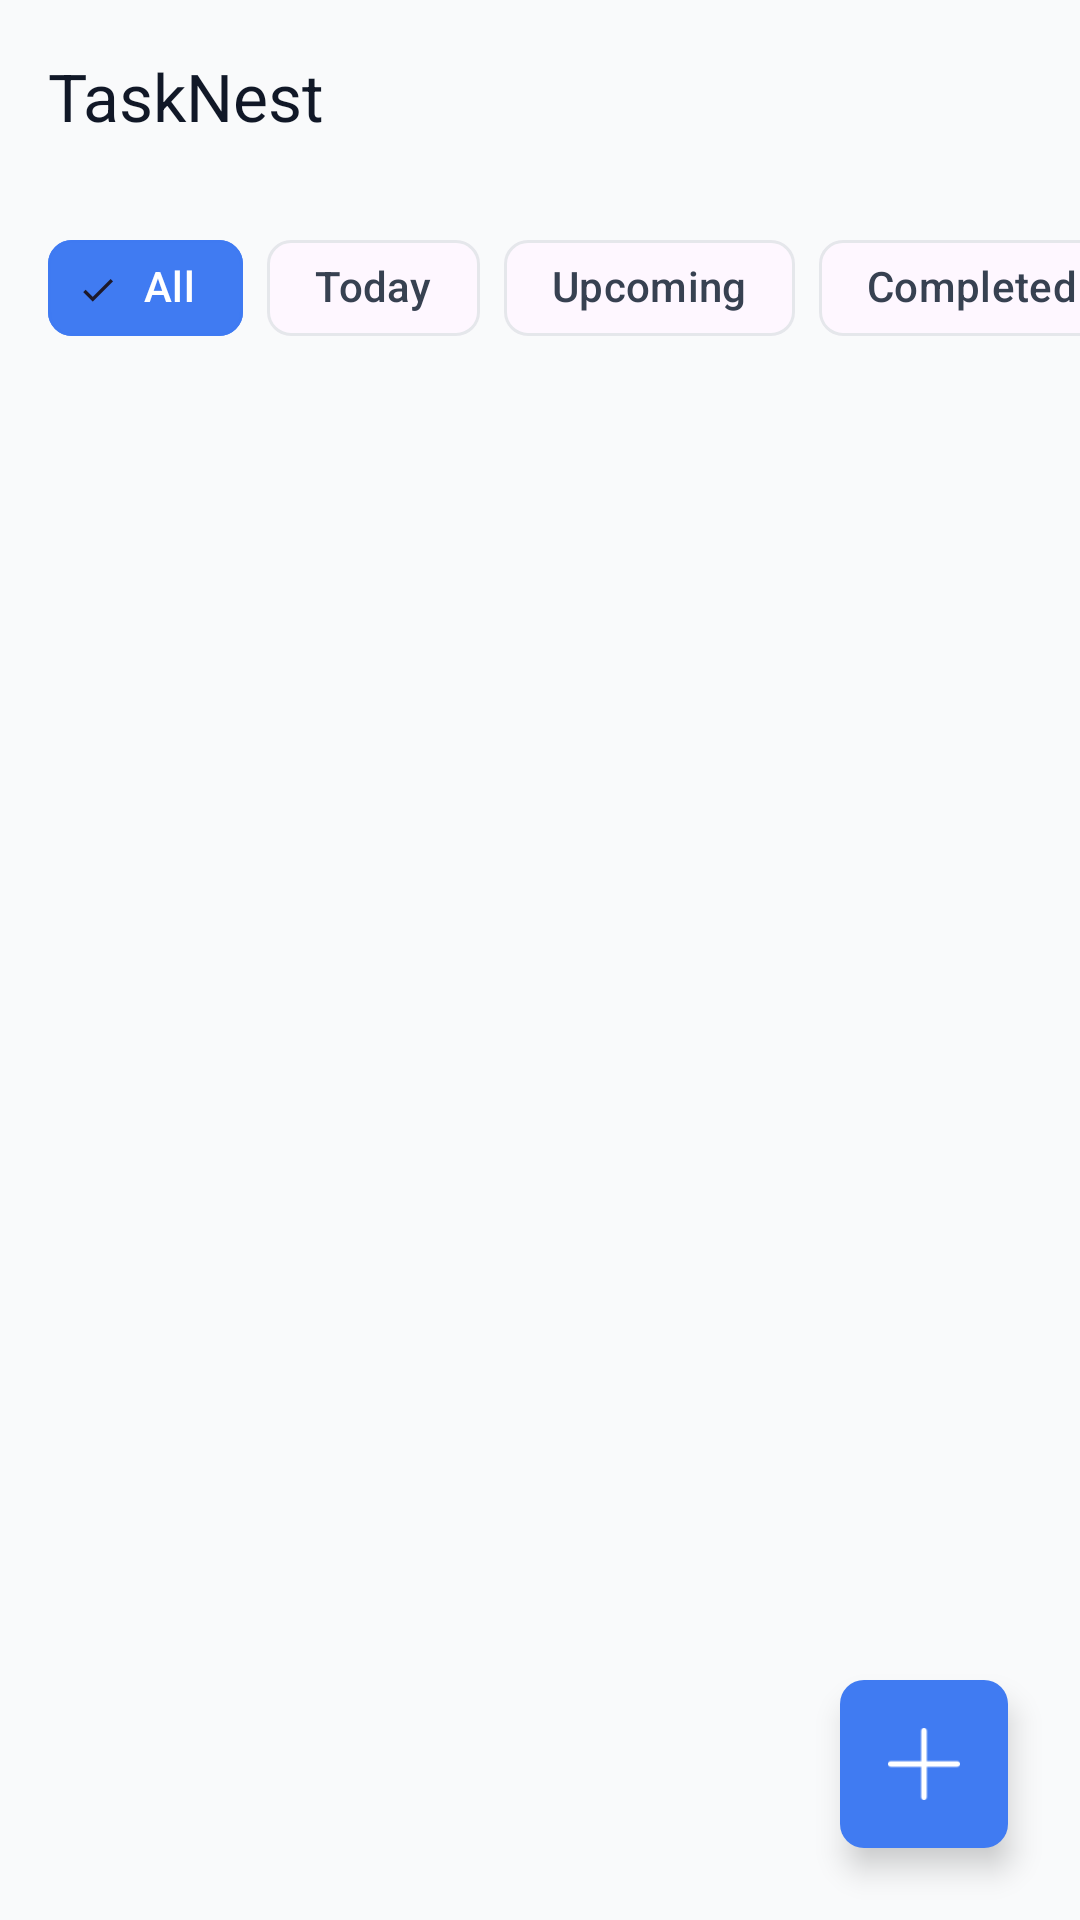

Icons on this 1080*1920 Android screen, each with the point to tap as (x=x, y=y):
Add new task: (x=924, y=1764)
